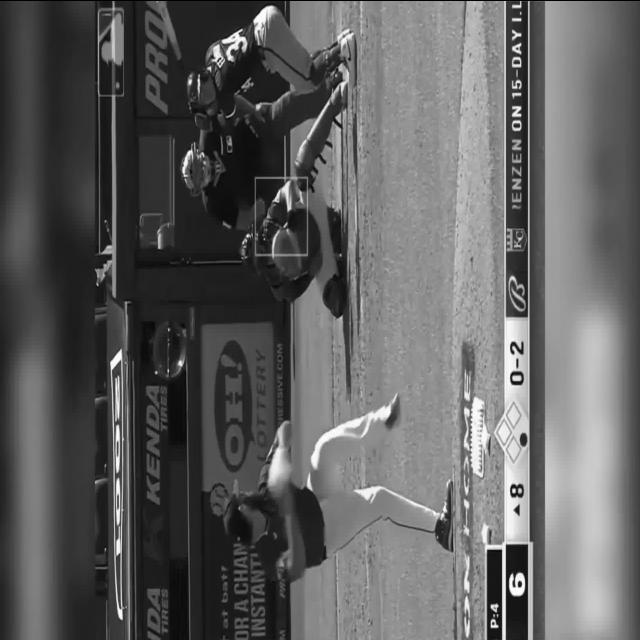baseball_glove: (271, 224, 302, 278), (268, 444, 292, 498)
bat: (156, 0, 181, 60)
shoe: (435, 478, 454, 551), (338, 29, 356, 87), (385, 391, 400, 429), (331, 80, 348, 113)
